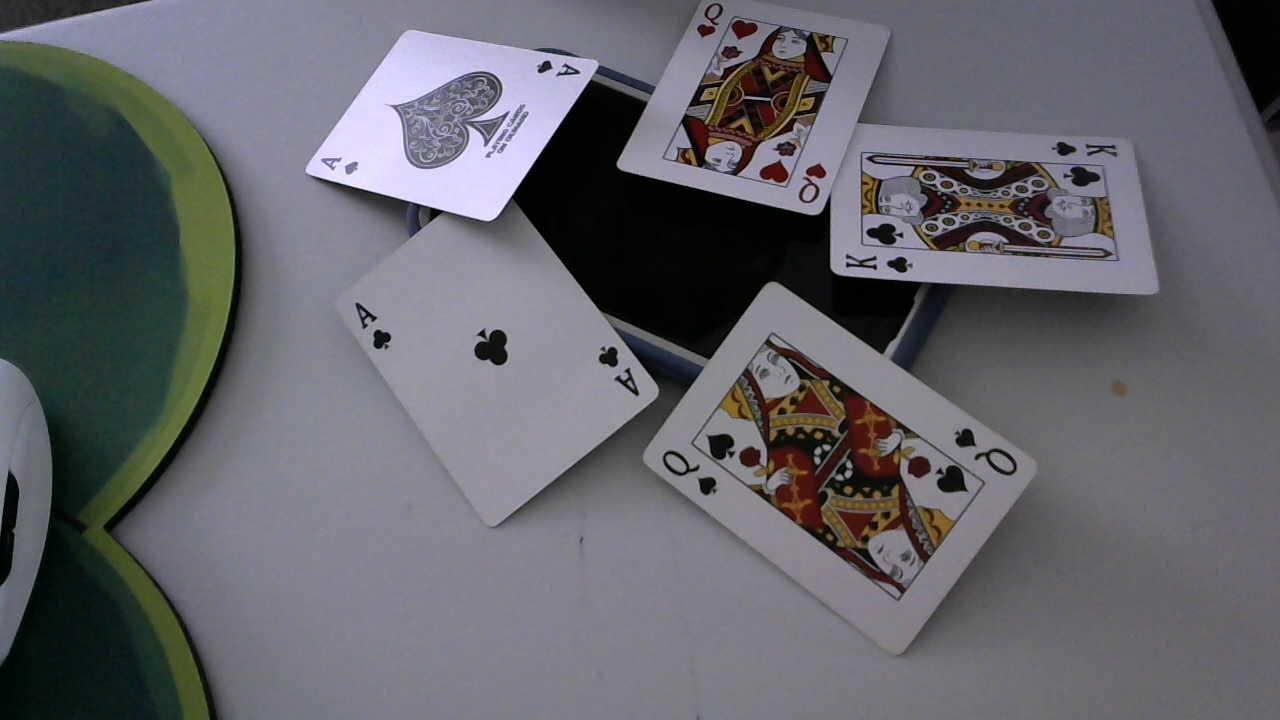AC: (595, 343, 645, 398), (351, 297, 397, 351)
AS: (533, 57, 584, 80), (321, 152, 362, 176)
KC: (842, 248, 916, 274), (1049, 140, 1123, 159)
QH: (694, 2, 726, 44), (797, 160, 826, 203)
QS: (952, 426, 1022, 477), (660, 447, 720, 498)
